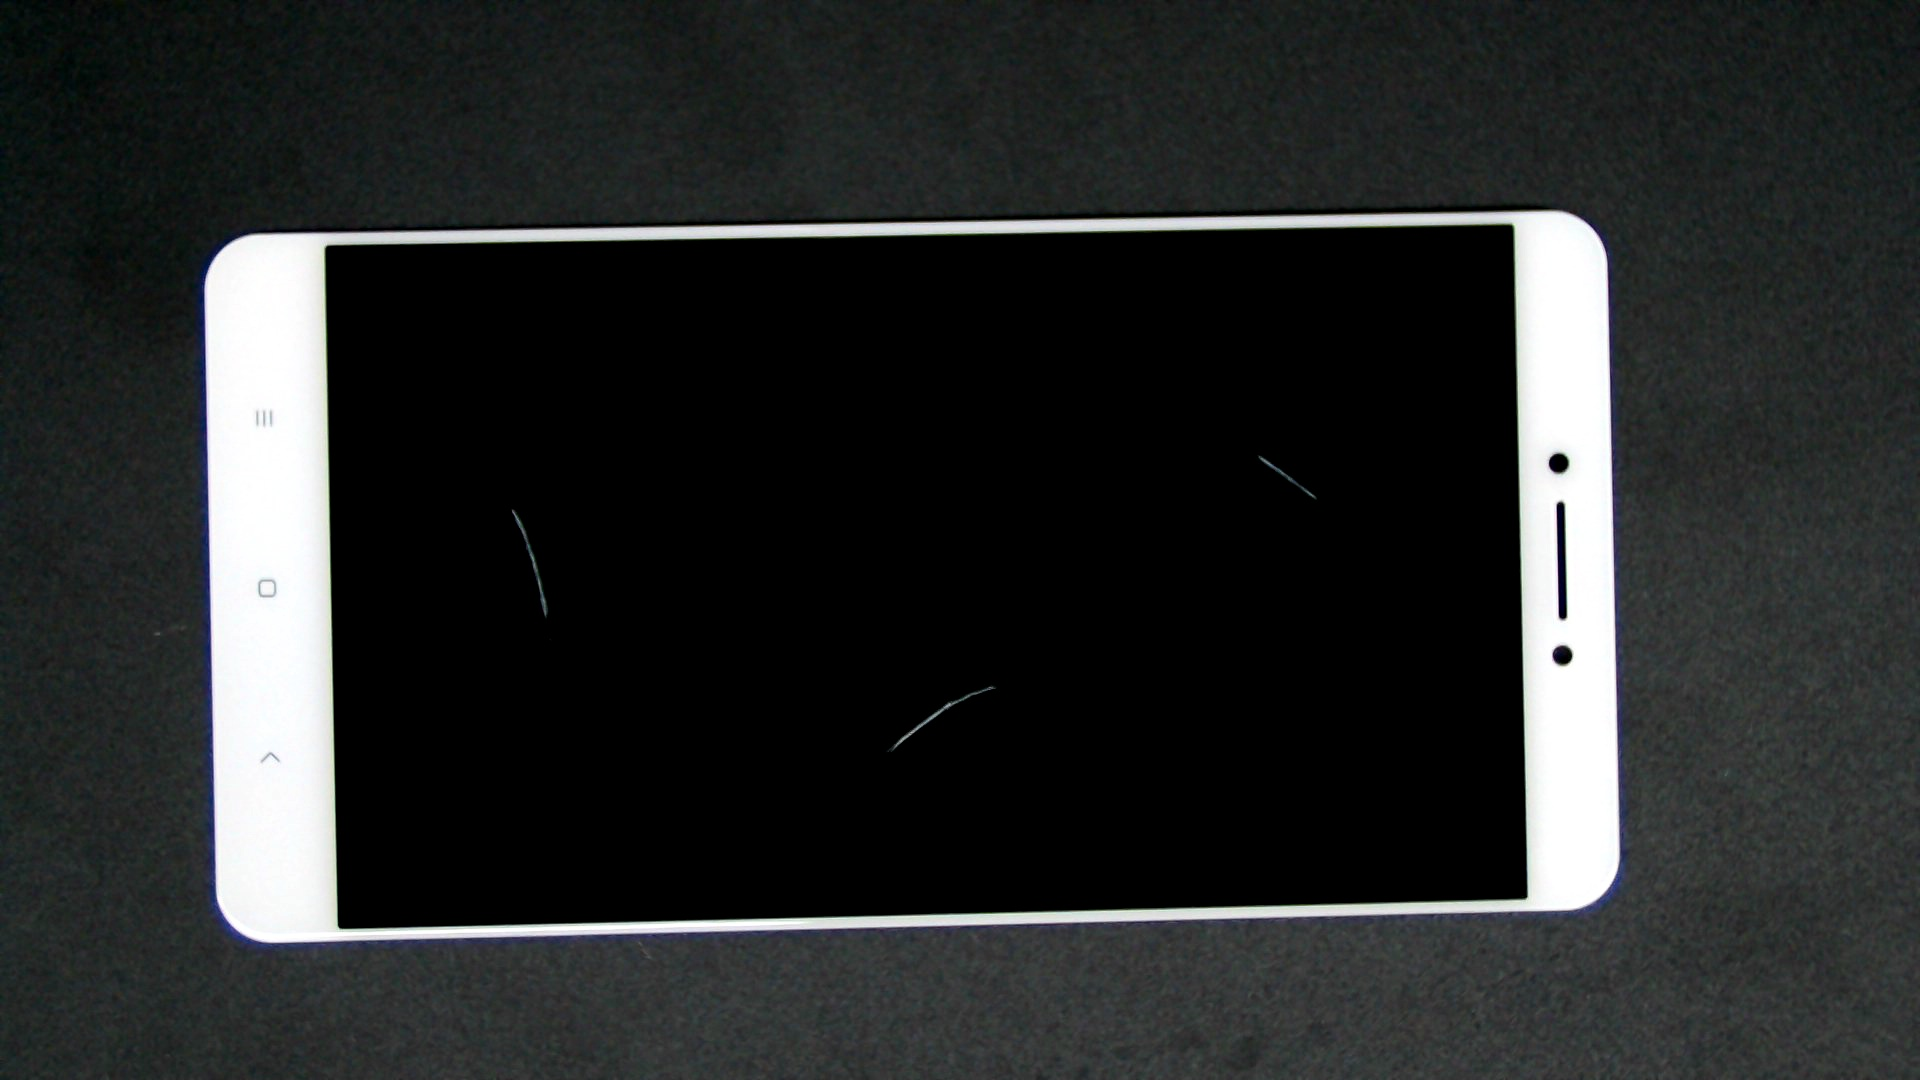oil: (493, 342, 1481, 1026), (628, 225, 1880, 679), (255, 252, 765, 762)
